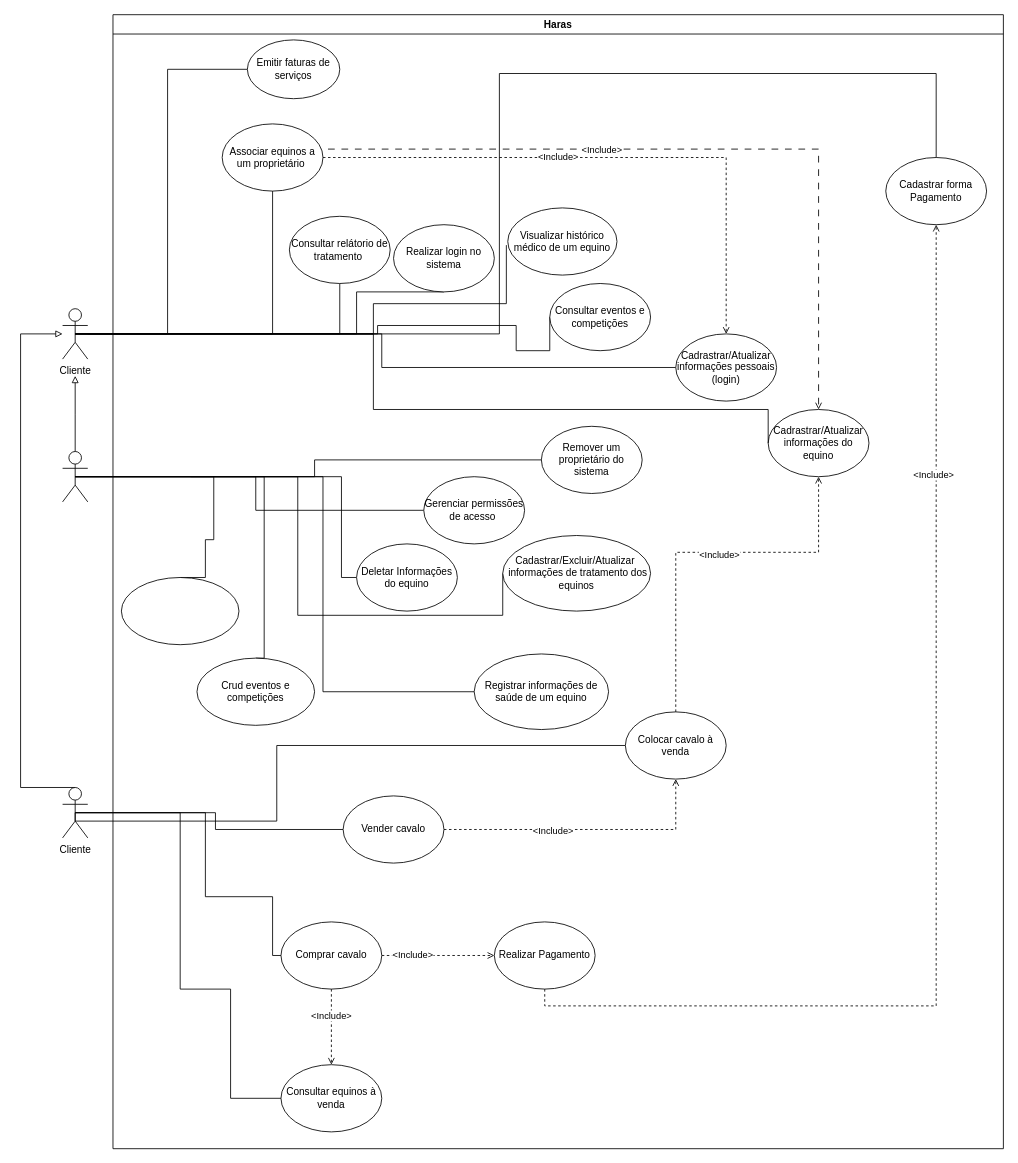
The diagram is 1018 pixels wide and 1163 high, and some of its shapes have lost their labels. Here are the shapes that lost their labels. From the top down, the centre of each, then its label:
the point at 75,476: Funcionário
the point at 180,611: Registrar pagamentos recebidos
